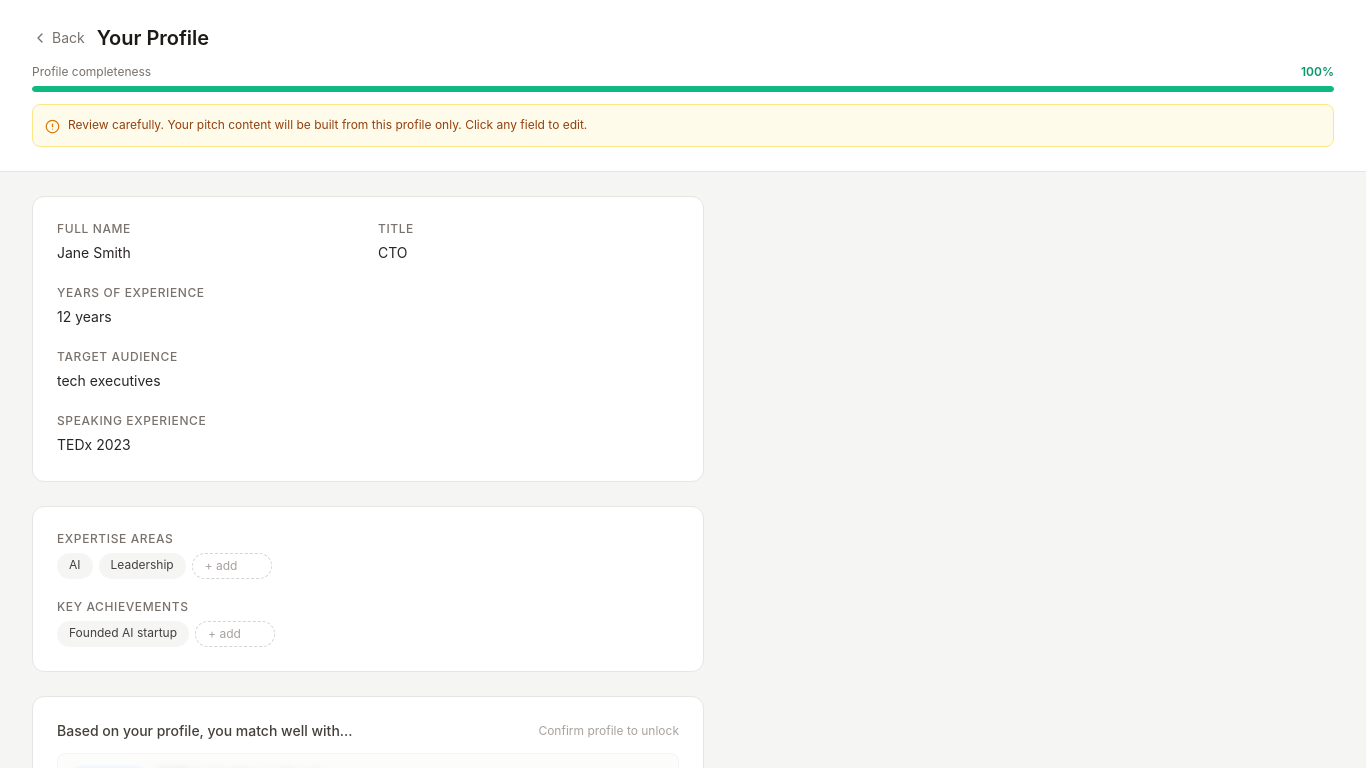
Scenario: BackButton warning modal › shows warning modal when back is clicked
The width and height of the screenshot is (1366, 768).
Click the button "Back": click(58, 38) [32,28,85,48]
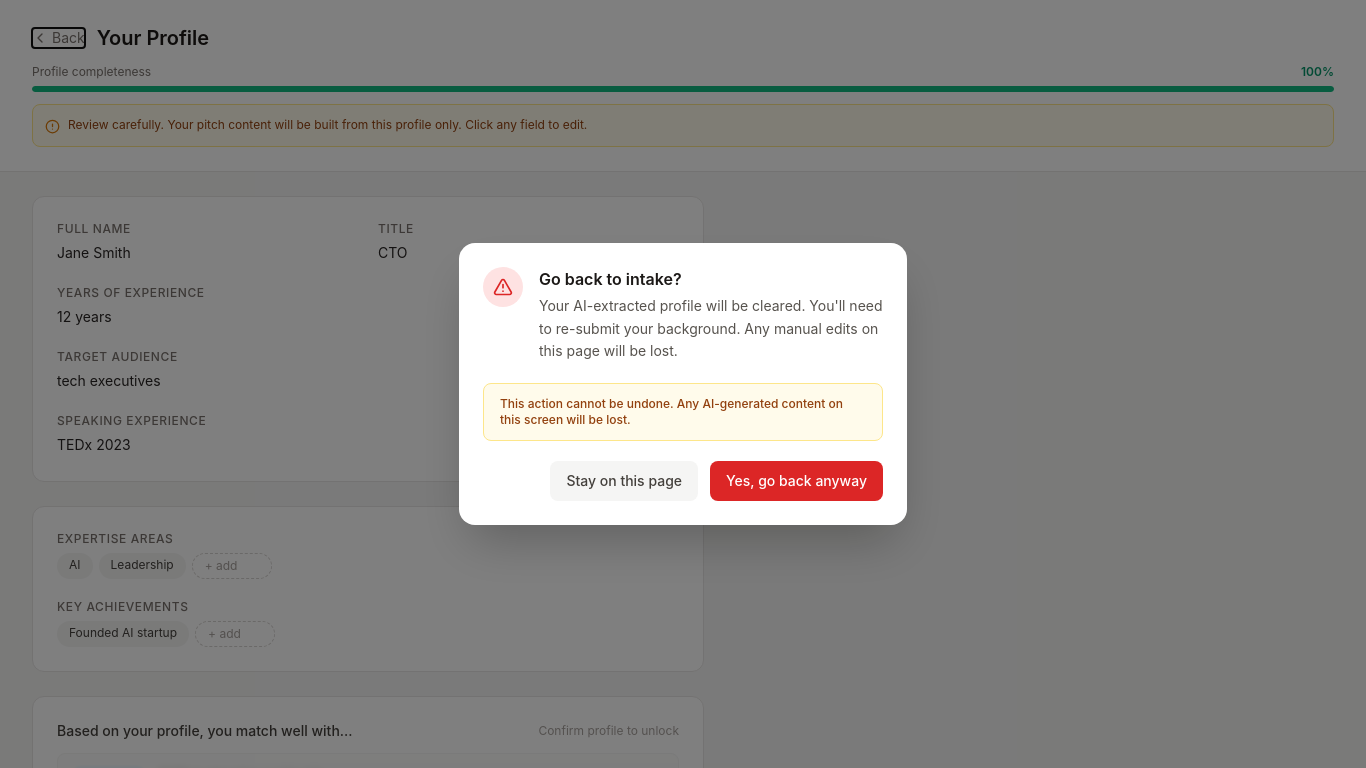
Expected: the heading "Go back to intake?" is shown, [539,269,682,289]
Expected: the button "Yes, go back anyway" is shown, [710,461,883,501]
Expected: the button "Stay on this page" is shown, [550,461,698,501]
